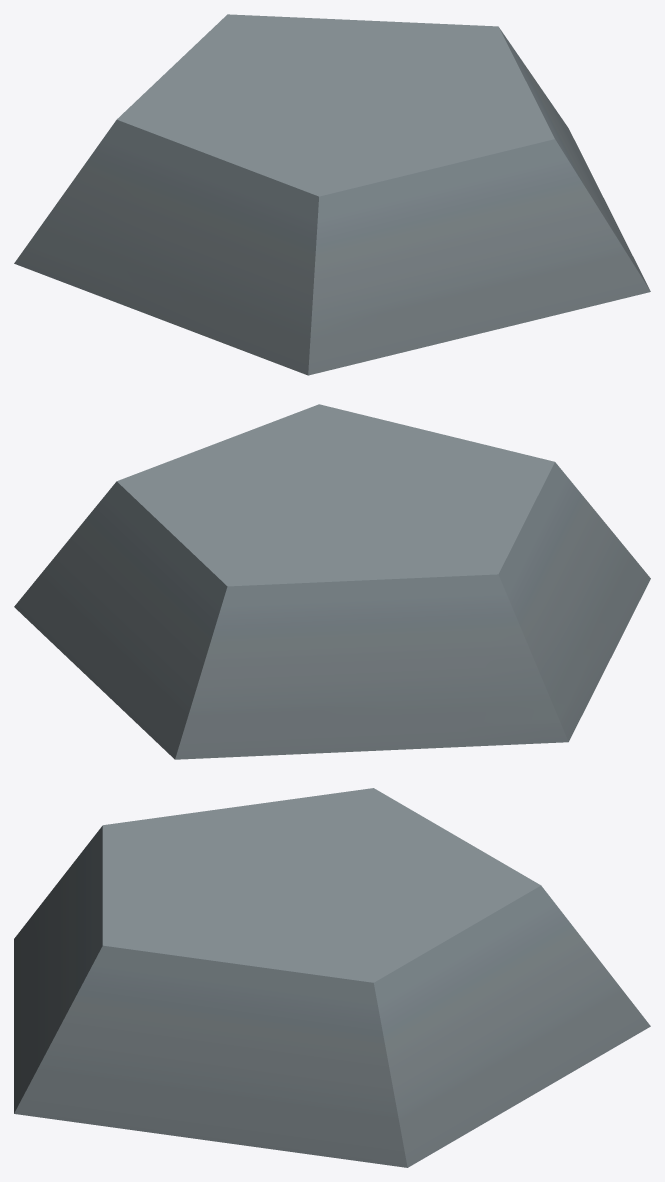
Rendered from rock_single_a.glb.
3 views of the same model, one above another, from view 1: azimuth 30°, elevation 25°; view 2: azimuth 150°, elevation 25°; view 3: azimuth 270°, elevation 25° (orthographic). The views are drawn at different scales.
Parts seen in each view (by area): view 1: rock_single_A; view 2: rock_single_A; view 3: rock_single_A.
Boxes of the visible parts, x1,y1,x2,y2 form: rock_single_A: (14,14,650,375); rock_single_A: (14,404,650,759); rock_single_A: (14,788,650,1167).
Size of the model in its own units: 0.2982 by 0.0693 by 0.2836.
Materials: 1 (1 with a texture image).
